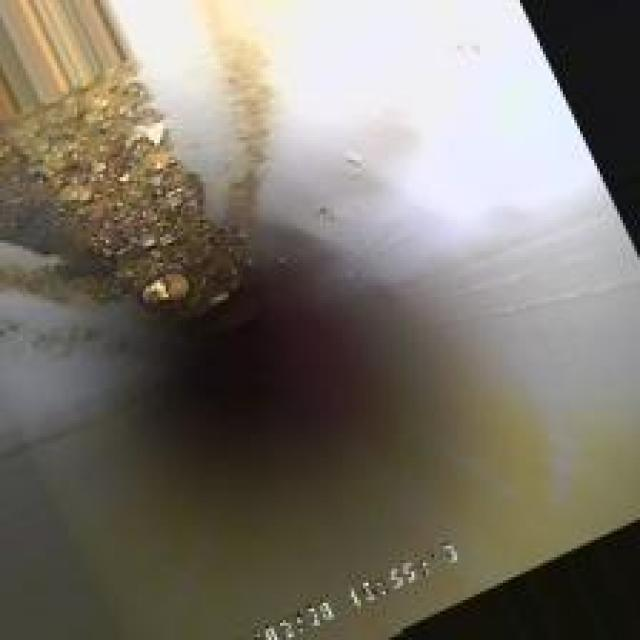stone: (120, 263, 206, 317)
